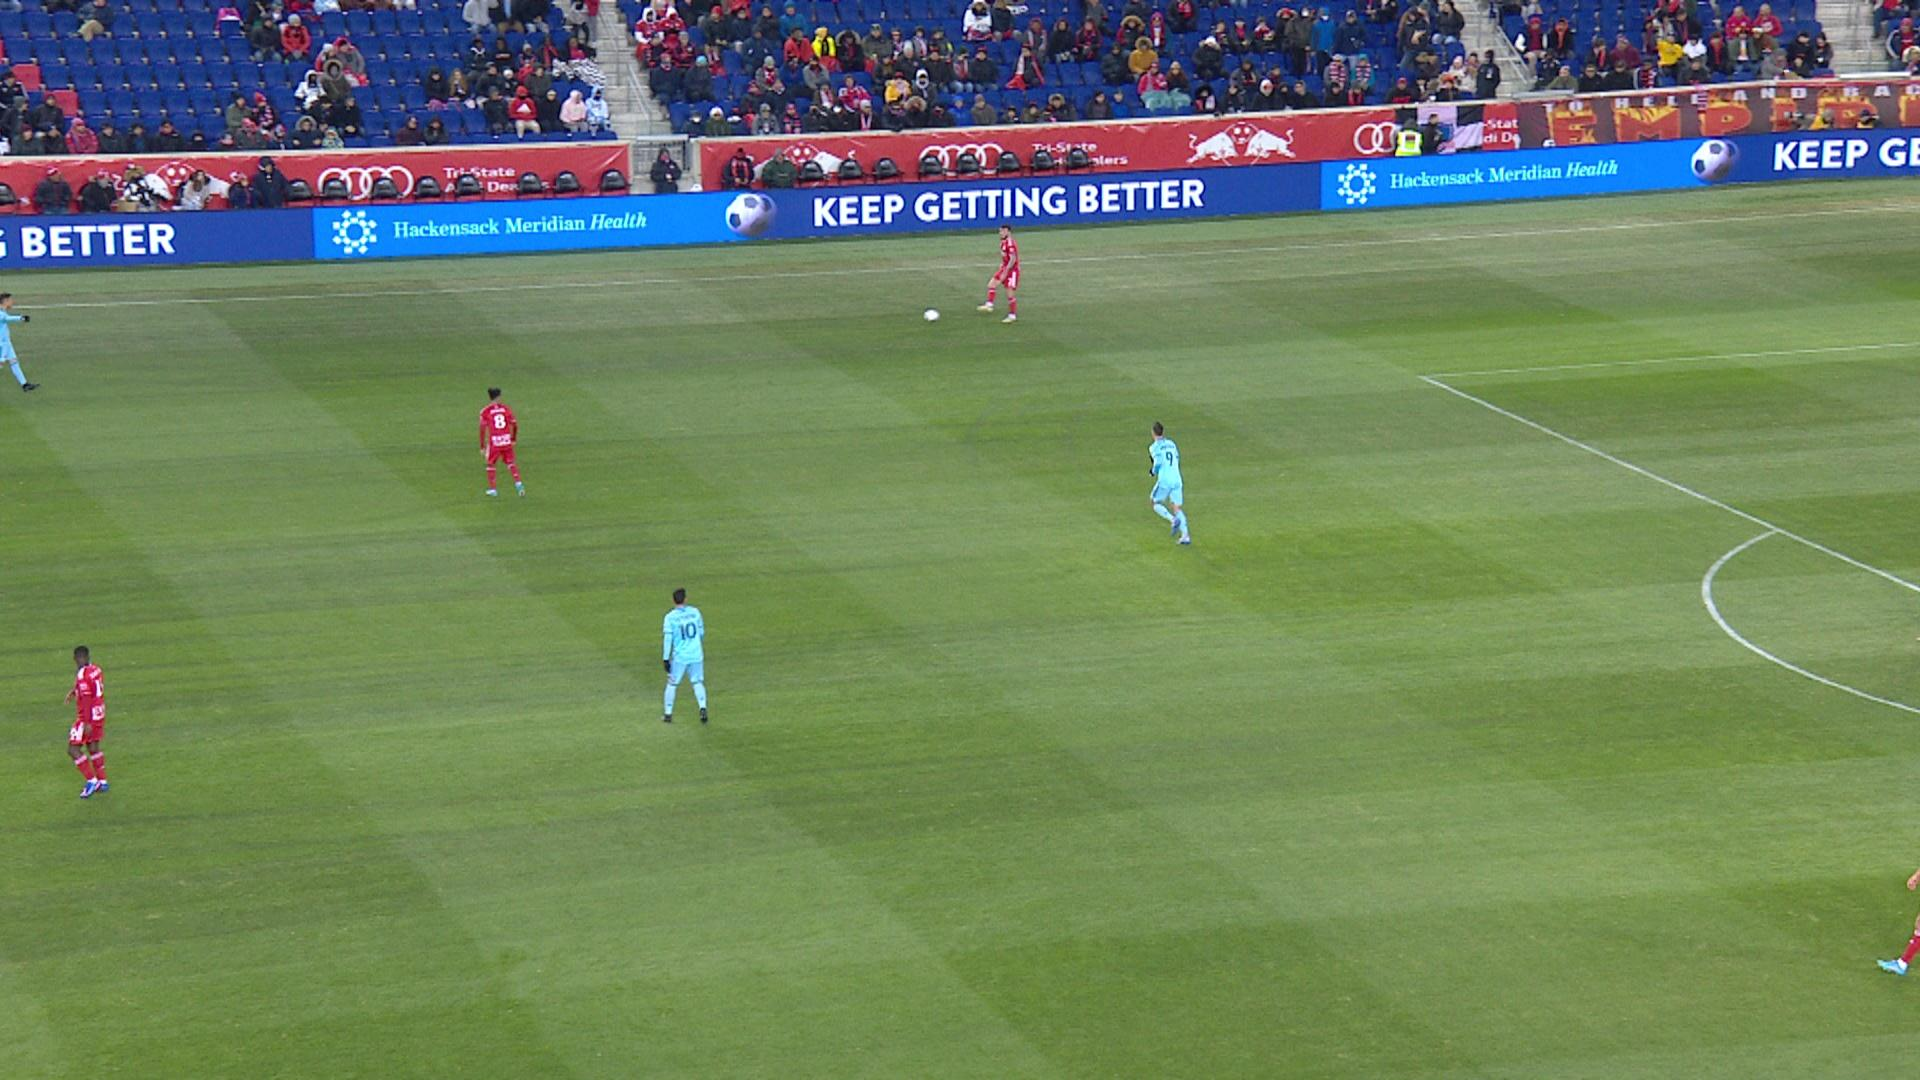football: (923, 307, 940, 323)
